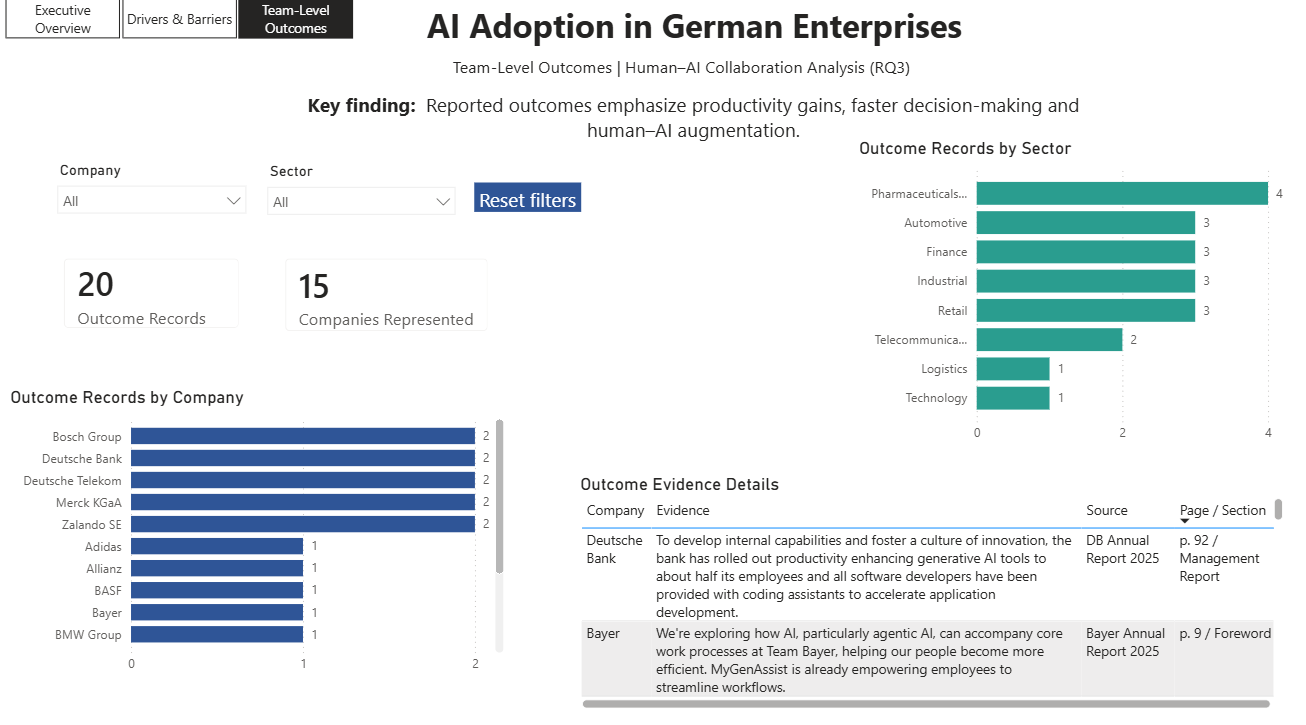

Layout of this report page (visuals, bound fields, positions):
{"tool":"powerbi","page":{"name":"Team-Level Outcomes","canvas":[1280,720],"ordinal":2},"visuals":[{"type":"textbox","box":[388.4,7.2,584.6,56.2],"z":0},{"type":"textbox","box":[423.1,58.2,491.1,36],"z":1000},{"type":"slicer","fields":{"Values":["DimSector.SectorName"]},"box":[253.1,164.1,204.7,76.5],"z":2000},{"type":"slicer","fields":{"Values":["DimCompany.CompanyName"]},"box":[47.7,162.2,205.3,78.5],"z":3000},{"type":"textbox","box":[279.2,94.2,803.1,60.8],"z":4000},{"type":"actionButton","box":[466.3,188.3,104.6,28.8],"z":5000},{"type":"cardVisual","fields":{"Data":["FactEvidence.Outcome Evidence"]},"box":[47.7,245.2,205.3,102.7],"z":6000},{"type":"cardVisual","fields":{"Data":["FactEvidence.Outcome Companies"]},"box":[263.5,245.2,232.8,105.9],"z":7000},{"type":"clusteredBarChart","title":"Outcome Records by Sector","fields":{"Category":["DimSector.SectorName"],"Y":["FactEvidence.Outcome Evidence"]},"box":[837.7,144.5,429,307.4],"z":8000},{"type":"clusteredBarChart","title":"Outcome Records by Company","fields":{"Y":["FactEvidence.Outcome Evidence"],"Category":["DimCompany.Company"]},"box":[7.2,387.8,492.4,289.7],"z":8001},{"type":"tableEx","title":"Outcome Evidence Details","fields":{"Values":["DimCompany.Company","FactEvidence.EvidenceText","DimSource.SourceDocument","FactEvidence.PageSection"]},"box":[565.4,473.4,696.9,234.5],"z":8002},{"type":"pageNavigator","box":[7.1,7.1,340,40.8],"z":8003}]}

Visuals, with their boxes in screenshot pixels (x1, y1, x2, y2), scaled from the page's 1280x720 canvas onto the 1306x725 screenshot:
textbox: x1=396 y1=7 x2=993 y2=64
textbox: x1=432 y1=59 x2=933 y2=95
slicer - DimSector.SectorName: x1=258 y1=165 x2=467 y2=242
slicer - DimCompany.CompanyName: x1=49 y1=163 x2=258 y2=242
textbox: x1=285 y1=95 x2=1104 y2=156
actionButton: x1=476 y1=190 x2=582 y2=219
cardVisual - FactEvidence.Outcome Evidence: x1=49 y1=247 x2=258 y2=350
cardVisual - FactEvidence.Outcome Companies: x1=269 y1=247 x2=506 y2=354
"Outcome Records by Sector" clusteredBarChart: x1=855 y1=146 x2=1292 y2=455
"Outcome Records by Company" clusteredBarChart: x1=7 y1=390 x2=510 y2=682
"Outcome Evidence Details" tableEx: x1=577 y1=477 x2=1288 y2=713
pageNavigator: x1=7 y1=7 x2=354 y2=48
